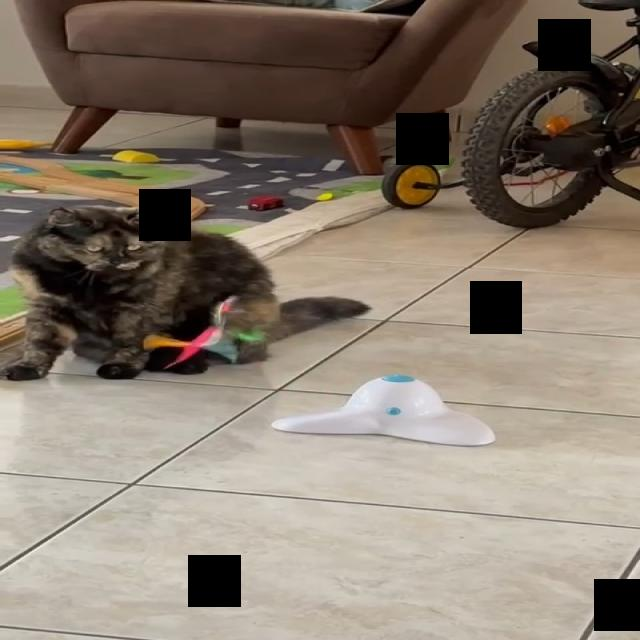authorized: (1, 204, 371, 380)
